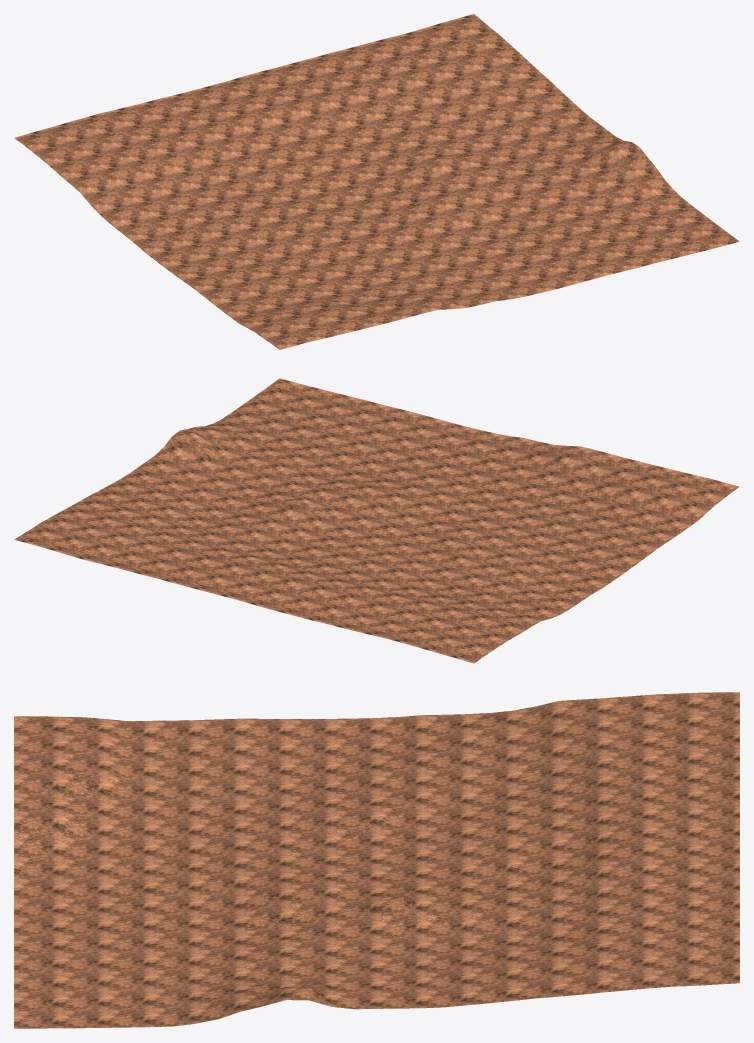
The model's file is terrain_03_15.dae.
3 renders of one model, top to bottom at view 1: azimuth 30°, elevation 25°; view 2: azimuth 150°, elevation 25°; view 3: azimuth 270°, elevation 25°, orthographic. The views are drawn at different scales.
Visible parts, largest first — view 1: terrain_03_15-node; view 2: terrain_03_15-node; view 3: terrain_03_15-node.
Part boxes in pixels (box(x1,y1,x2,y2)): terrain_03_15-node: box(14, 14, 739, 349); terrain_03_15-node: box(14, 378, 739, 663); terrain_03_15-node: box(14, 692, 739, 1028).
Bounding box in the file's own units: 128 × 128 × 9.57.
1 material, 1 textured.
